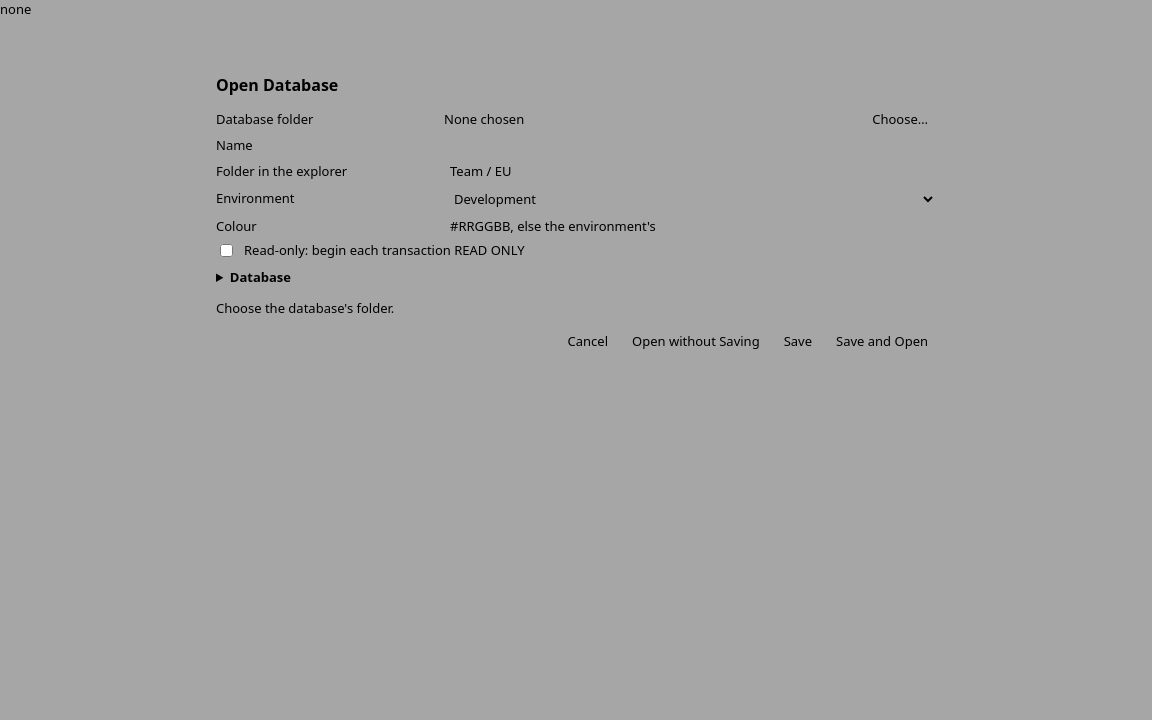
Test: the embedded database dialog › refuses a folder another process holds, and offers its server [DESIGN] D59
Later steps or results of the test are not shown.
Click the button with aria-label "Choose the database folder": (900, 119) x1=864 y1=108 x2=936 y2=130
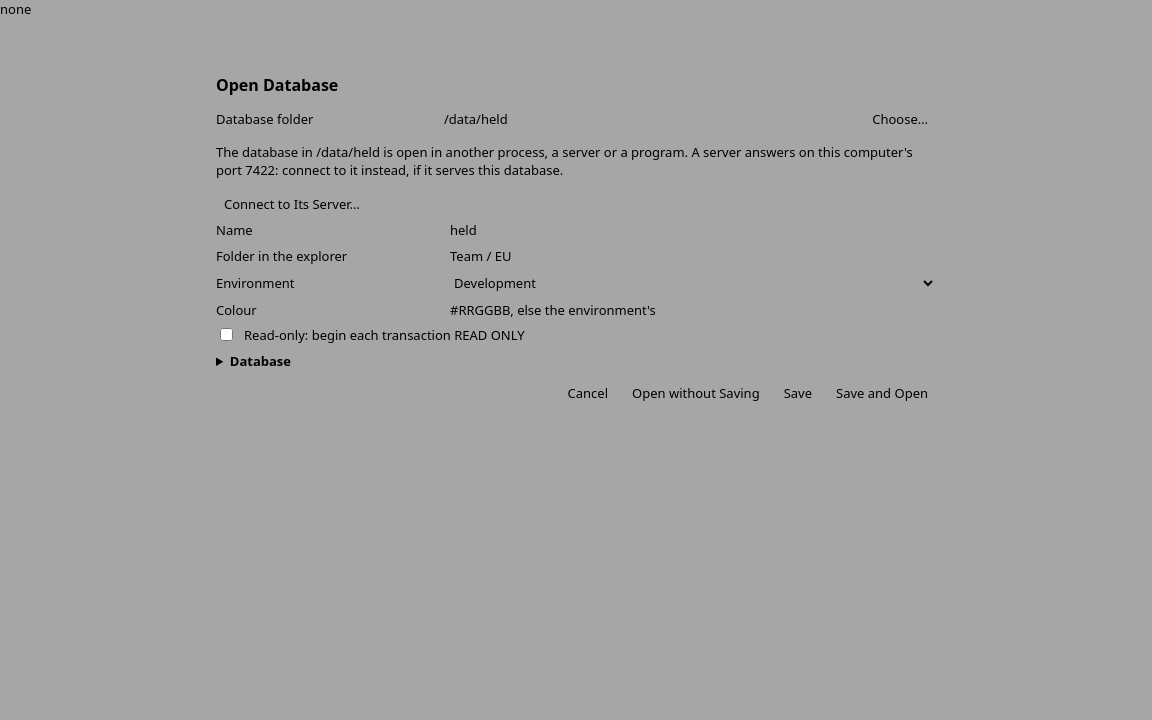
Expected: the button "Save and Open" is disabled, x1=828 y1=382 x2=936 y2=405
Expected: the message shows "open in another process", x1=216 y1=143 x2=913 y2=179
